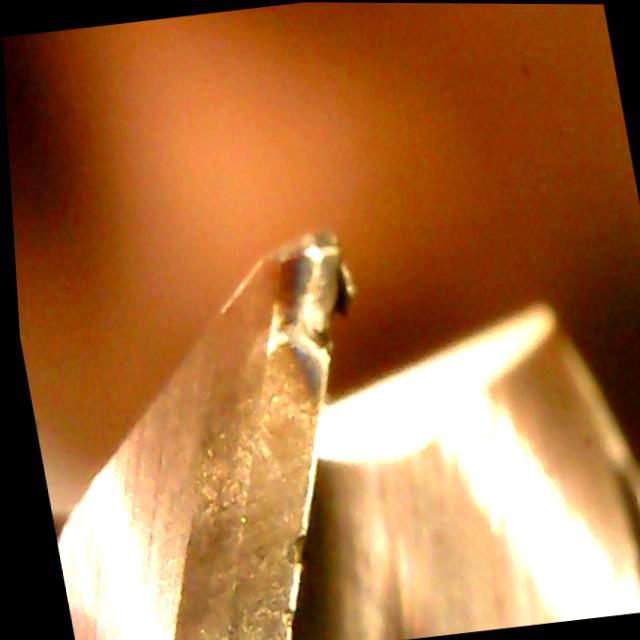Tool-wear-class-1: (155, 212, 413, 572)
